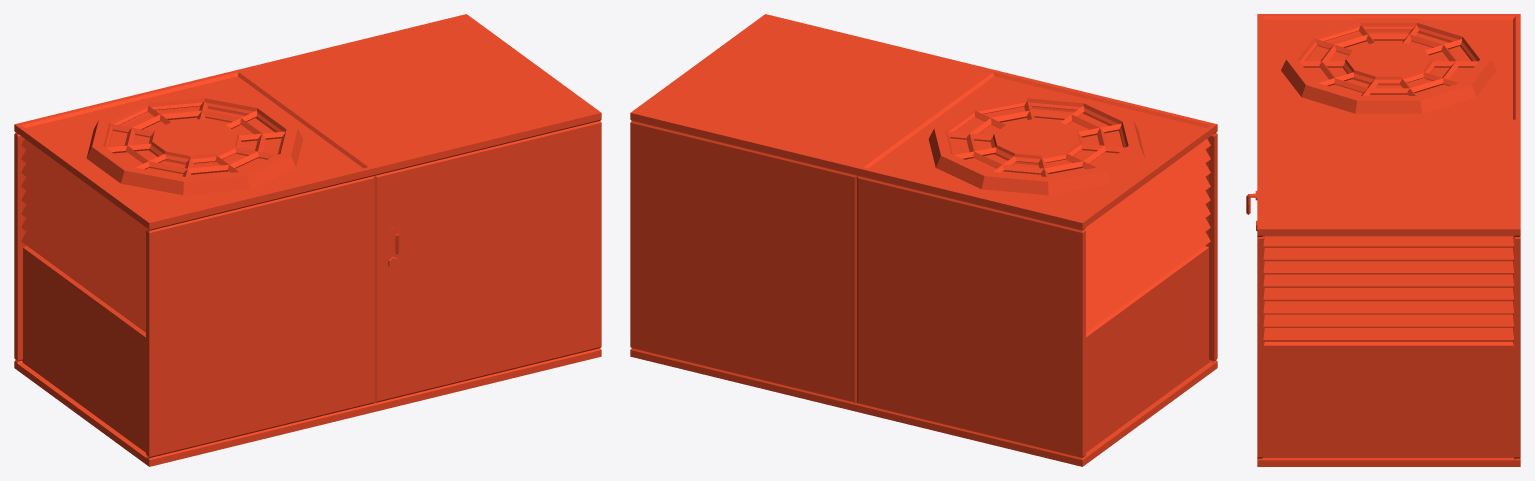
The model's file is SM_AC_A_City.fbx.
3 views of the same model, side by side, from view 1: azimuth 30°, elevation 25°; view 2: azimuth 150°, elevation 25°; view 3: azimuth 270°, elevation 25° (orthographic). The views are drawn at different scales.
Visible parts, largest first — view 1: SM_AC_A_City; view 2: SM_AC_A_City; view 3: SM_AC_A_City.
Part boxes in pixels (x1,y1,x2,y2): SM_AC_A_City: [14, 14, 601, 466]; SM_AC_A_City: [630, 14, 1217, 466]; SM_AC_A_City: [1246, 14, 1520, 466].
Size of the model in its own units: 2.11 by 1.13 by 1.14.
